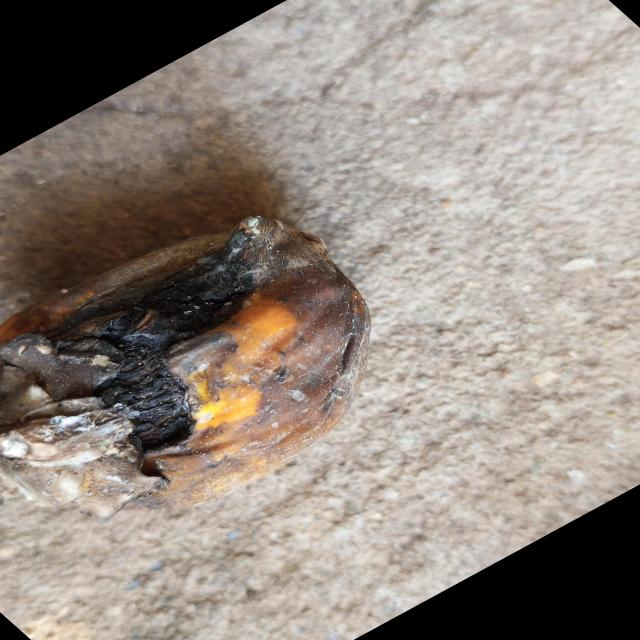damaged: (0, 217, 370, 517)
